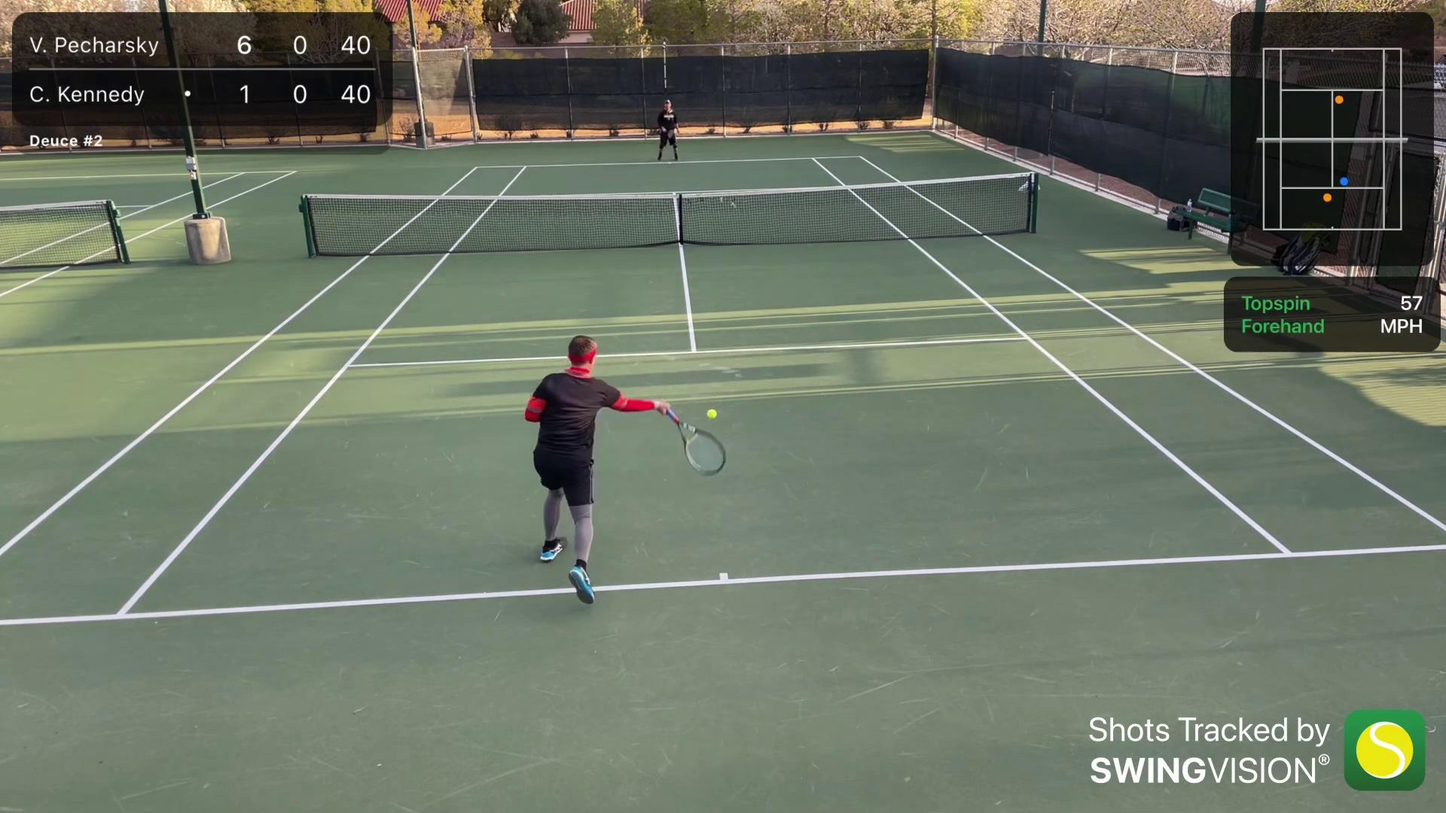ball: (704, 408, 721, 420)
